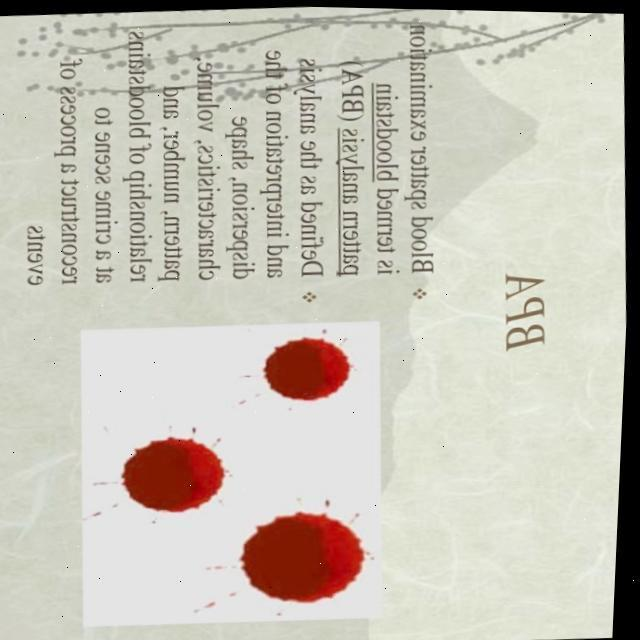knife: (238, 509, 367, 605), (120, 435, 228, 513), (260, 338, 349, 403)
